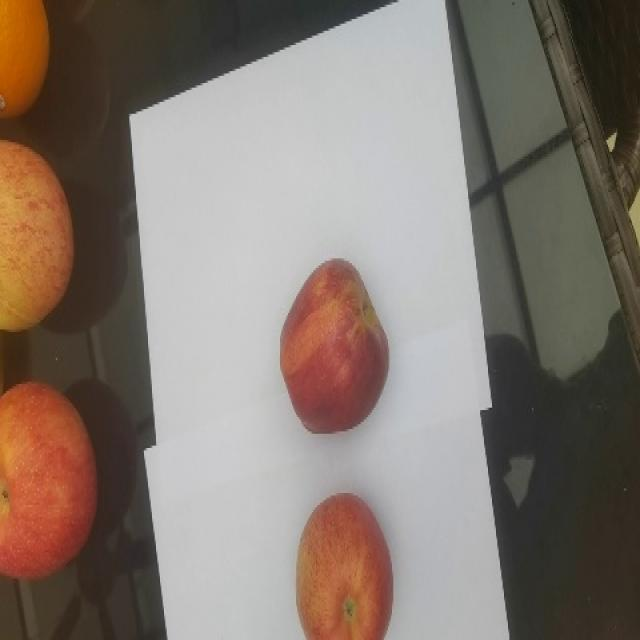Apple: (0, 380, 99, 581), (279, 257, 389, 434), (0, 138, 75, 332), (295, 492, 393, 639)
Orange: (0, 0, 50, 119)
